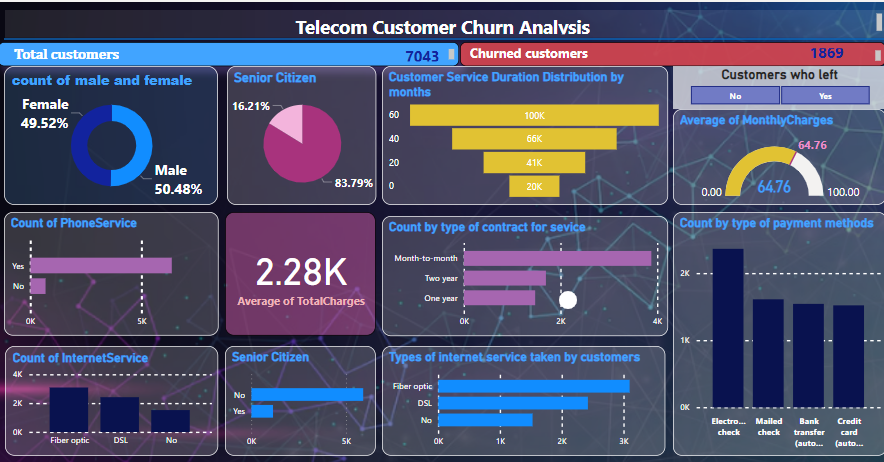

What the dashboard file says about the page in this screenshot:
{"tool":"powerbi","page":{"name":"Page 1","canvas":[1280,720],"ordinal":0},"visuals":[{"type":"shape","box":[8.6,97.9,1270.1,14.4],"z":0},{"type":"textbox","box":[0,104.3,664.4,35.3],"z":1000},{"type":"textbox","box":[665.2,109.2,613.1,35.3],"z":2000},{"type":"donutChart","title":"count of male and female","fields":{"Y":["CountNonNull(telecom churn analysis data.gender)"],"Category":["telecom churn analysis data.gender"]},"box":[8.6,144,308.2,200.2],"z":3000},{"type":"slicer","title":"Customers  who left","fields":{"Values":["telecom churn analysis data.Churn"]},"box":[972.6,144.5,307.4,62.2],"z":4000},{"type":"pieChart","title":" Senior Citizen","fields":{"Category":["telecom churn analysis data.SeniorCitizen"],"Y":["CountNonNull(telecom churn analysis data.SeniorCitizen (groups))"]},"box":[329.2,144.5,215,199.9],"z":5000},{"type":"barChart","title":"Count of PhoneService ","fields":{"Category":["telecom churn analysis data.PhoneService"],"Y":["CountNonNull(telecom churn analysis data.PhoneService)"]},"box":[8.4,354.4,309.1,178.1],"z":6000},{"type":"clusteredColumnChart","title":"Count of InternetService ","fields":{"Category":["telecom churn analysis data.InternetService"],"Y":["CountNonNull(telecom churn analysis data.InternetService)"]},"box":[10.1,547.6,307.4,157.9],"z":7000},{"type":"funnel","title":"Customer Service Duration Distribution by months","fields":{"Y":["Sum(telecom churn analysis data.tenure)"],"Category":["telecom churn analysis data.tenure (bins)"]},"box":[552.7,144.5,411.5,199.9],"z":8000},{"type":"barChart","title":"Count by type of contract for sevice","fields":{"Category":["telecom churn analysis data.Contract"],"Y":["CountNonNull(telecom churn analysis data.Contract)"]},"box":[552.7,359.5,411.5,173],"z":9000},{"type":"clusteredBarChart","title":"Types of  internet service taken by customers","fields":{"Category":["telecom churn analysis data.InternetService"],"Y":["CountNonNull(telecom churn analysis data.InternetService)"]},"box":[553,547.2,407.5,158.4],"z":10000},{"type":"clusteredColumnChart","title":"Count by  type of payment methods","fields":{"Category":["telecom churn analysis data.PaymentMethod"],"Y":["CountNonNull(telecom churn analysis data.PaymentMethod)"]},"box":[972,354.2,308.2,351.4],"z":11000},{"type":"card","fields":{"Values":["Avg(telecom churn analysis data.TotalCharges)"]},"box":[327.6,354.4,216.7,178.1],"z":12000},{"type":"barChart","title":"Senior Citizen","fields":{"Category":["telecom churn analysis data.SeniorCitizenStatus"],"Y":["CountNonNull(telecom churn analysis data.SeniorCitizenStatus)"]},"box":[327.6,547.6,216.7,157.9],"z":13000},{"type":"gauge","fields":{"Y":["Avg(telecom churn analysis data.MonthlyCharges)"]},"box":[972.6,206.6,307.4,137.7],"z":14000},{"type":"textbox","box":[10.1,63.9,1268.2,40.4],"z":15000}]}

Visuals, with their boxes on the page's 1280x720 design canvas (x1, y1, x2, y2). These are canvas units, not pixel positions in the 884x462 screenshot, which may show the page scaled, cropped or inside an application window:
shape: <box>9,98,1279,112</box>
textbox: <box>0,104,664,140</box>
textbox: <box>665,109,1278,144</box>
"count of male and female" donutChart: <box>9,144,317,344</box>
"Customers  who left" slicer: <box>973,144,1280,207</box>
" Senior Citizen" pieChart: <box>329,144,544,344</box>
"Count of PhoneService " barChart: <box>8,354,318,532</box>
"Count of InternetService " clusteredColumnChart: <box>10,548,318,706</box>
"Customer Service Duration Distribution by months" funnel: <box>553,144,964,344</box>
"Count by type of contract for sevice" barChart: <box>553,360,964,532</box>
"Types of  internet service taken by customers" clusteredBarChart: <box>553,547,960,706</box>
"Count by  type of payment methods" clusteredColumnChart: <box>972,354,1280,706</box>
card - Avg(telecom churn analysis data.TotalCharges): <box>328,354,544,532</box>
"Senior Citizen" barChart: <box>328,548,544,706</box>
gauge - Avg(telecom churn analysis data.MonthlyCharges): <box>973,207,1280,344</box>
textbox: <box>10,64,1278,104</box>
